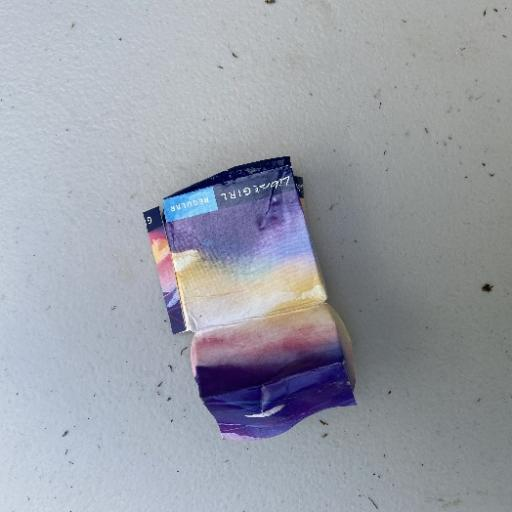Cardboard: (140, 154, 360, 442), (188, 302, 358, 442)
